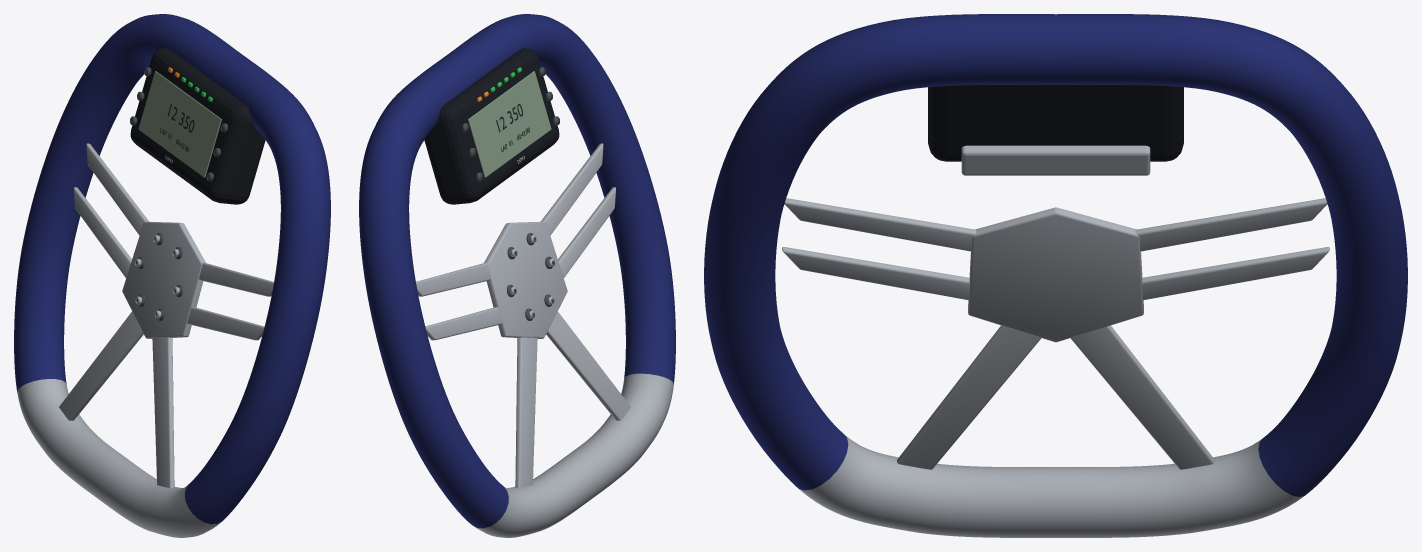
Rendered from SM_CV2_SteeringWheel.fbx.
3 views of the same model, side by side, from view 1: azimuth 30°, elevation 25°; view 2: azimuth 150°, elevation 25°; view 3: azimuth 270°, elevation 25° (orthographic). The views are drawn at different scales.
Visible parts, largest first — view 1: SM_CV2_SteeringWheel; view 2: SM_CV2_SteeringWheel; view 3: SM_CV2_SteeringWheel.
Boxes of the visible parts, box(x1,y1,x2,y2) form: SM_CV2_SteeringWheel: box(14, 14, 330, 537); SM_CV2_SteeringWheel: box(359, 14, 675, 537); SM_CV2_SteeringWheel: box(704, 14, 1407, 537).
Bounding box in the file's own units: 12.52 × 33.53 × 31.47.
